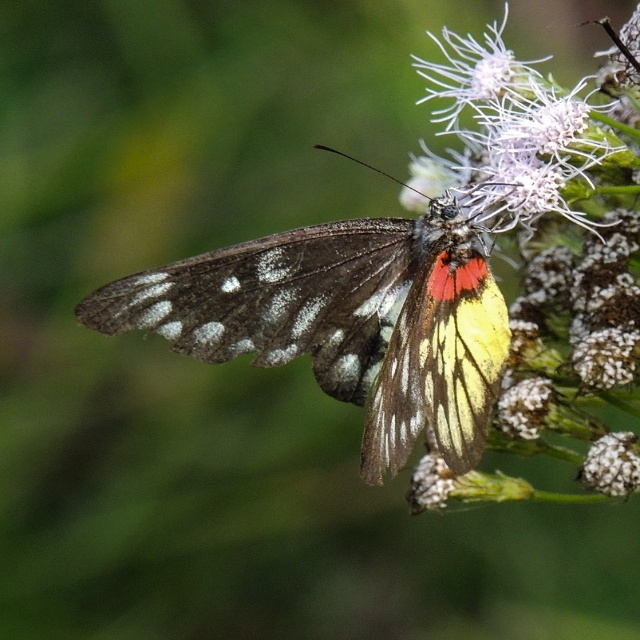Butterfly: (71, 140, 527, 484)
